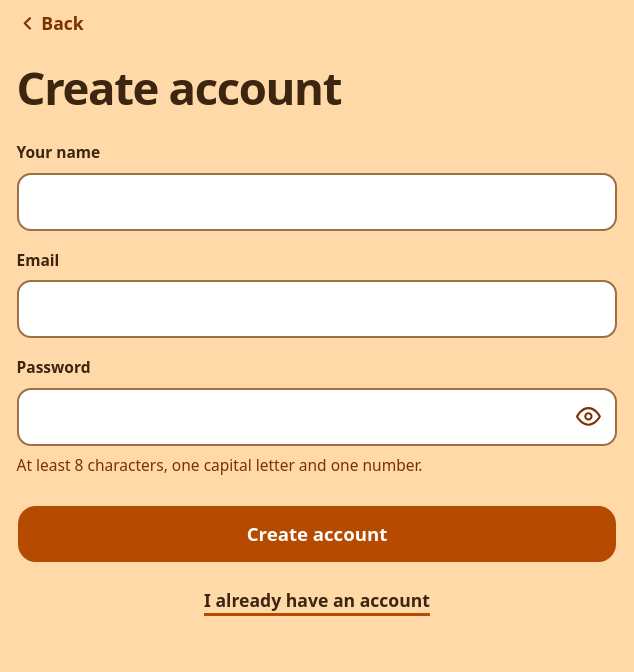
Test: SignUpScreen › shows the en text for the answer AUTH_EMAIL_TAKEN inline
This screenshot has width=634, height=672.
Type "Filip" into the field labelled "Your name".
click(317, 202); type("Filip")  # box [16,173,618,231]
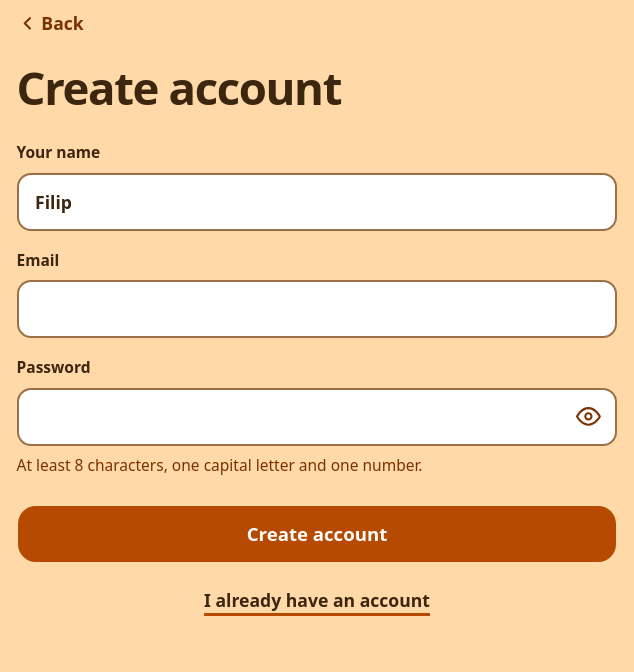
Type "filip@example.com" into the field labelled "Email".
click(317, 309); type("filip@example.com")  # box [16,280,618,338]
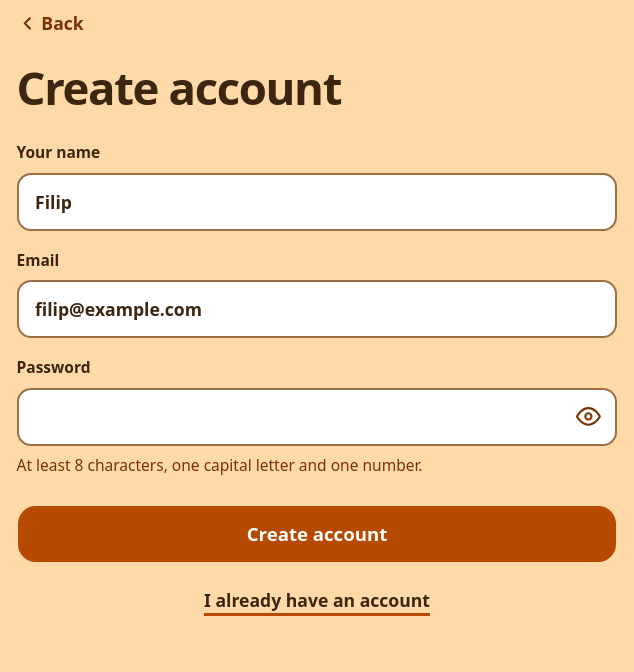
Type "Passw0rdOk" into the password field labelled "Password".
click(317, 417); type("Passw0rdOk")  # box [16,388,618,446]
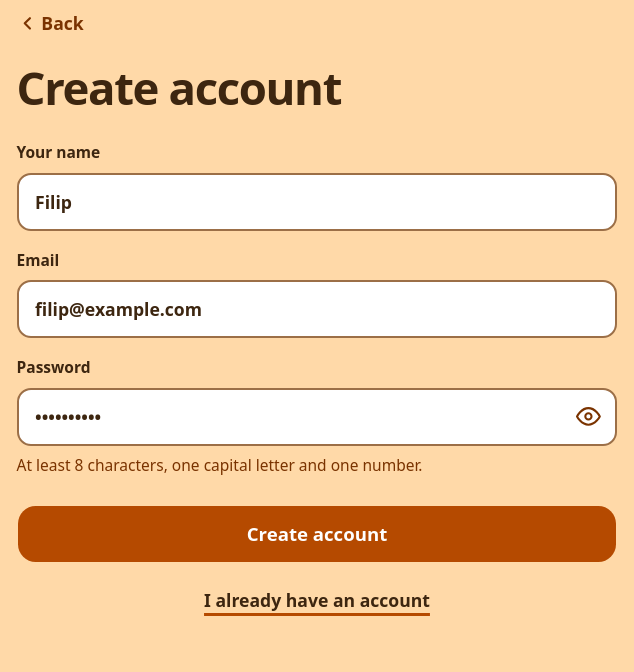
Click the button "Create account".
click(317, 534)  # box [16,506,618,564]
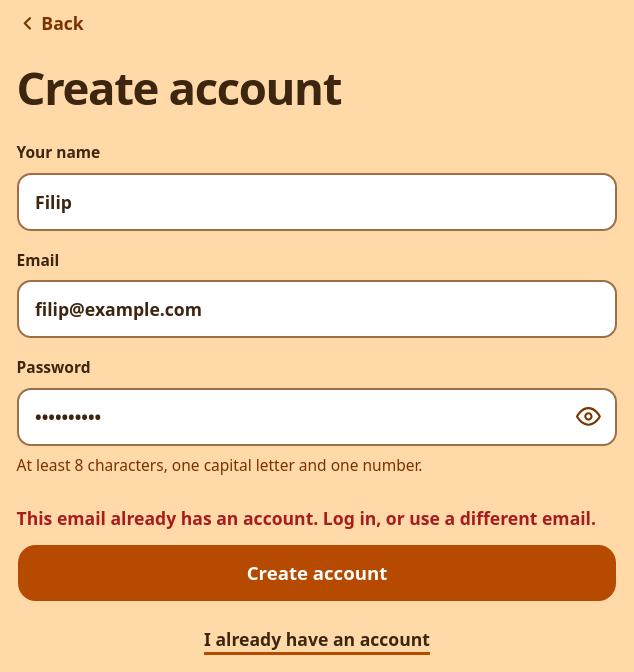
Expected: the message reads "This email already has an account. Log in, or use a different email.", [16,506,596,530]
